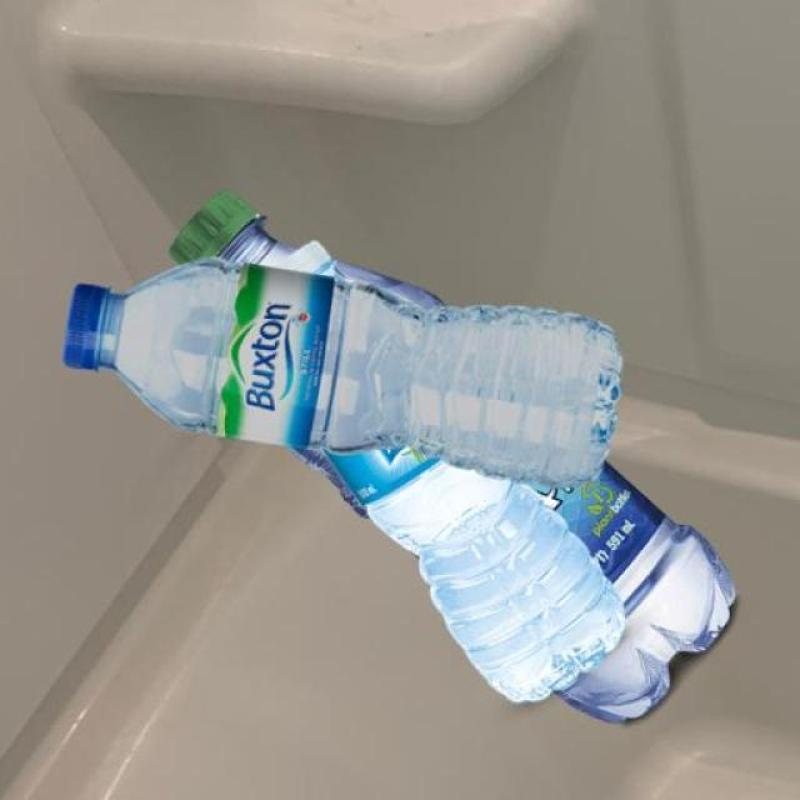botella: (169, 192, 736, 726), (276, 240, 625, 704), (62, 258, 626, 481)
